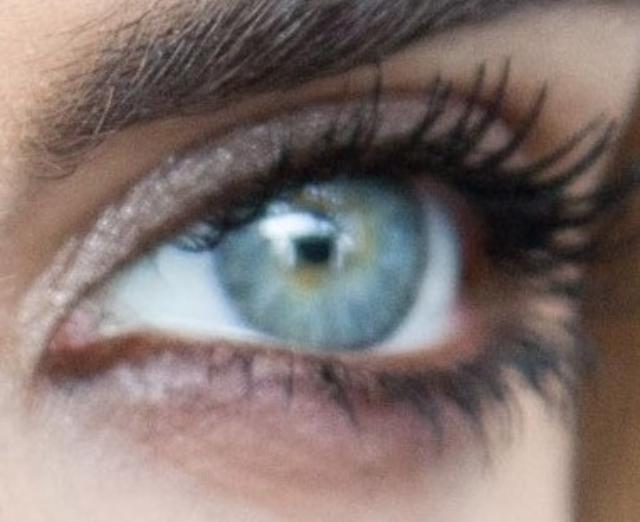eye: (217, 152, 428, 362)
